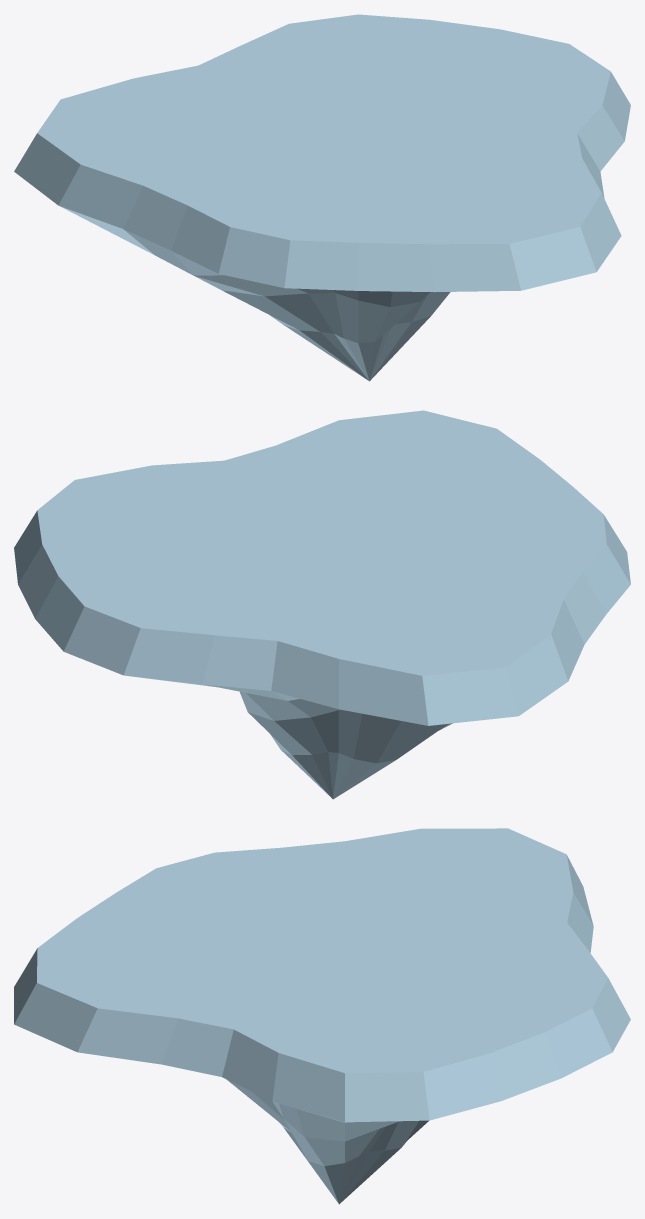
Rendered from vayu_windmill_island.glb.
3 views of the same model, one above another, from view 1: azimuth 30°, elevation 25°; view 2: azimuth 150°, elevation 25°; view 3: azimuth 270°, elevation 25° (orthographic). The views are drawn at different scales.
Parts seen in each view (by area): view 1: VayuWindmillIsland; view 2: VayuWindmillIsland; view 3: VayuWindmillIsland.
Boxes of the visible parts, box(x1,y1,x2,y2) form: VayuWindmillIsland: box(14, 14, 630, 381); VayuWindmillIsland: box(14, 410, 630, 799); VayuWindmillIsland: box(14, 828, 630, 1204).
Bounding box in the file's own units: 31.87 × 14.2 × 31.46.
1 material, 1 textured.
